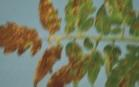Tomato Septoria leaf spot: (94, 0, 139, 36), (99, 47, 139, 87), (66, 0, 98, 35), (86, 42, 104, 86), (96, 2, 112, 37)
